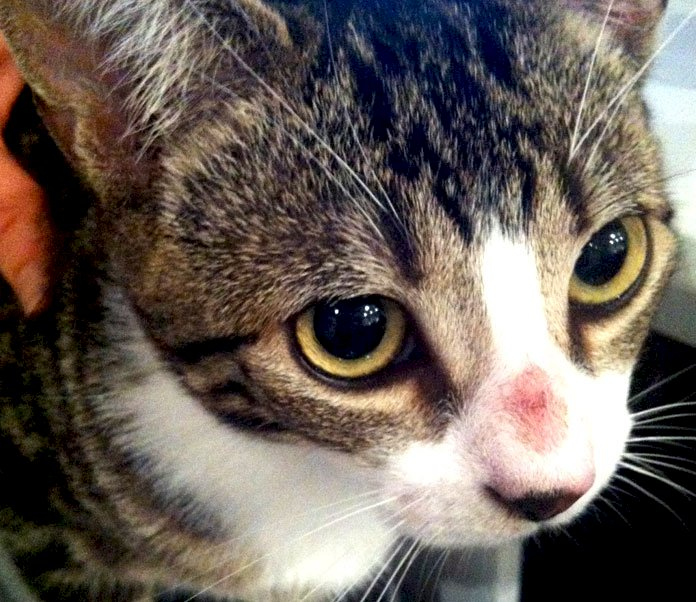ringworm: (498, 361, 570, 450)
